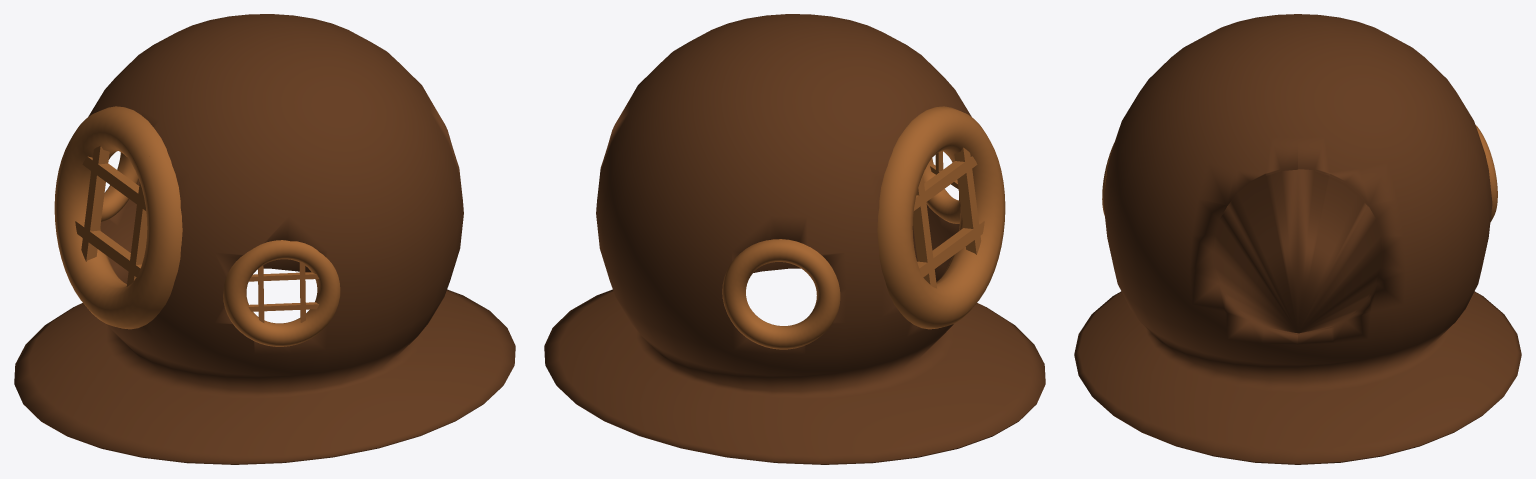
Rendered from Helmet.fbx.
3 views of the same model, side by side, from view 1: azimuth 30°, elevation 25°; view 2: azimuth 150°, elevation 25°; view 3: azimuth 270°, elevation 25° (orthographic). The views are drawn at different scales.
Parts seen in each view (by area): view 1: Sphere, Torus, Cube.002; view 2: Sphere, Torus, Cube.002; view 3: Sphere, Cube.002.
Boxes of the visible parts, x1,y1,x2,y2 form: Sphere: [14, 14, 515, 464]; Torus: [54, 106, 182, 329]; Cube.002: [75, 146, 340, 346]; Sphere: [544, 14, 1045, 464]; Torus: [877, 106, 1005, 329]; Cube.002: [722, 147, 984, 349]; Sphere: [1074, 14, 1521, 464]; Cube.002: [1102, 125, 1497, 222].
Size of the model in its own units: 260 by 184 by 230.
